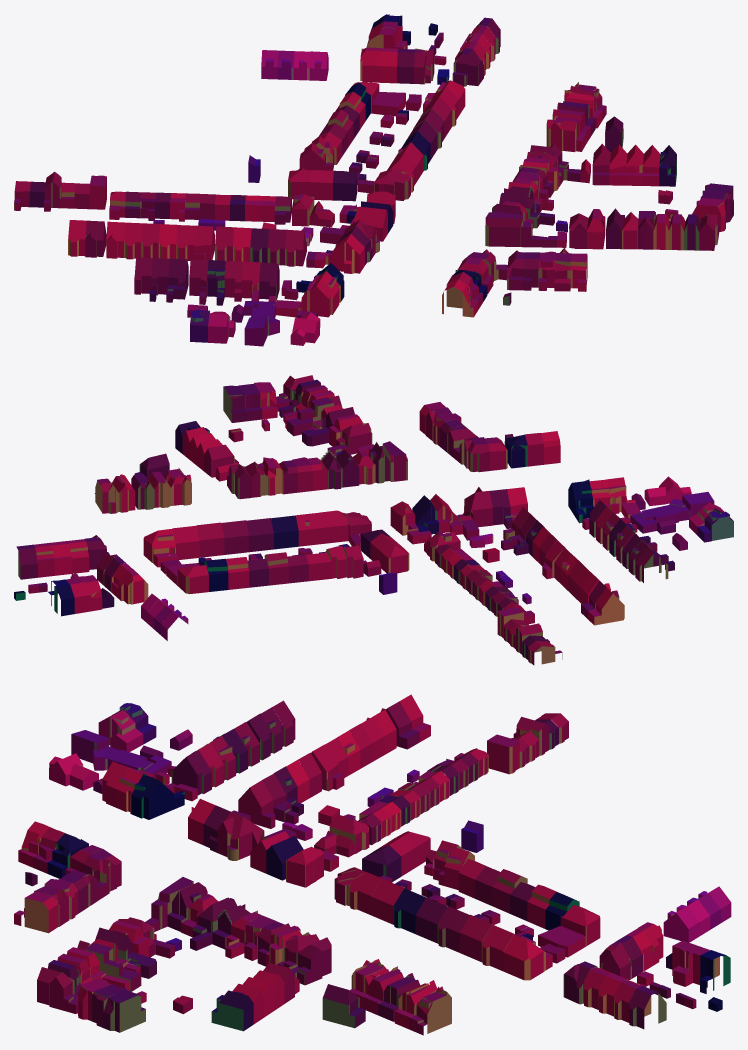
Rendered from buildings_4_9.glb.
The picture shows the model from 3 angles, top to bottom: view 1: azimuth 30°, elevation 25°; view 2: azimuth 150°, elevation 25°; view 3: azimuth 270°, elevation 25°; orthographic projection. The views are drawn at different scales.
Visible parts, largest first — view 1: buildings_4_9; view 2: buildings_4_9; view 3: buildings_4_9.
Part boxes in pixels (x1,y1,x2,y2): buildings_4_9: [14, 14, 733, 346]; buildings_4_9: [14, 375, 733, 665]; buildings_4_9: [14, 694, 731, 1035].
Size of the model in its own units: 211 by 11.75 by 208.
